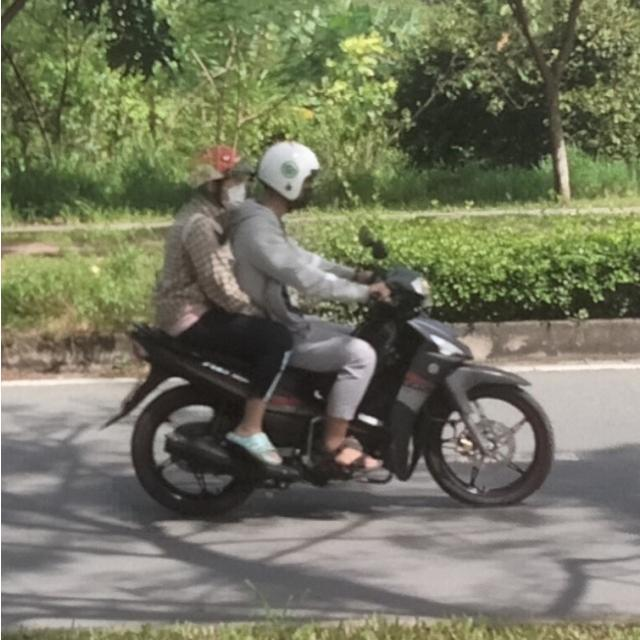Helmet: (183, 144, 249, 212), (260, 138, 322, 210)
